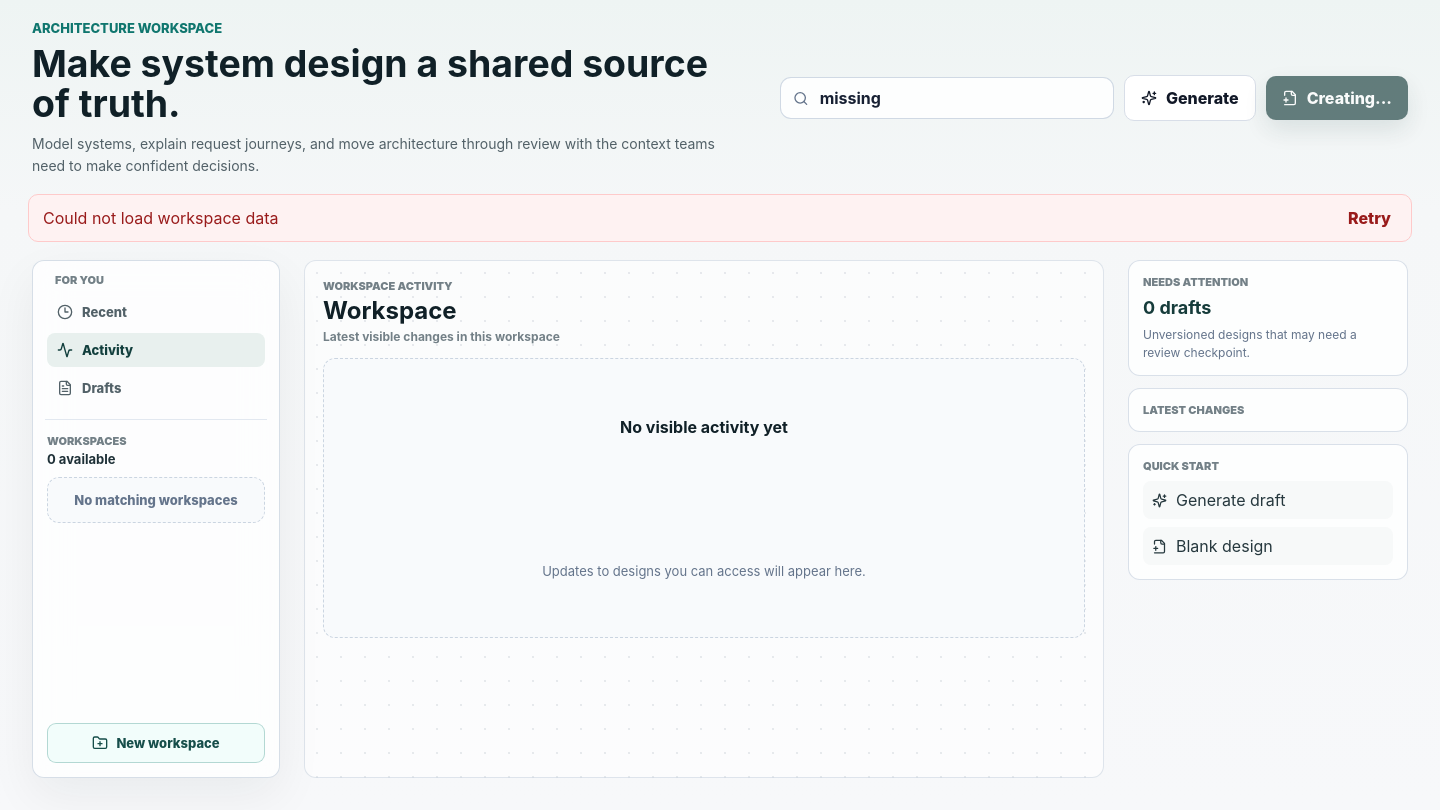
Scenario: HomeScreen › renders directory failures, empty searches, loading states, and retry behavior
Check: the text "No matching workspaces" is shown, box x1=47 y1=477 x2=265 y2=523
Click the button "Recent" at (156, 312), box x1=47 y1=295 x2=265 y2=329
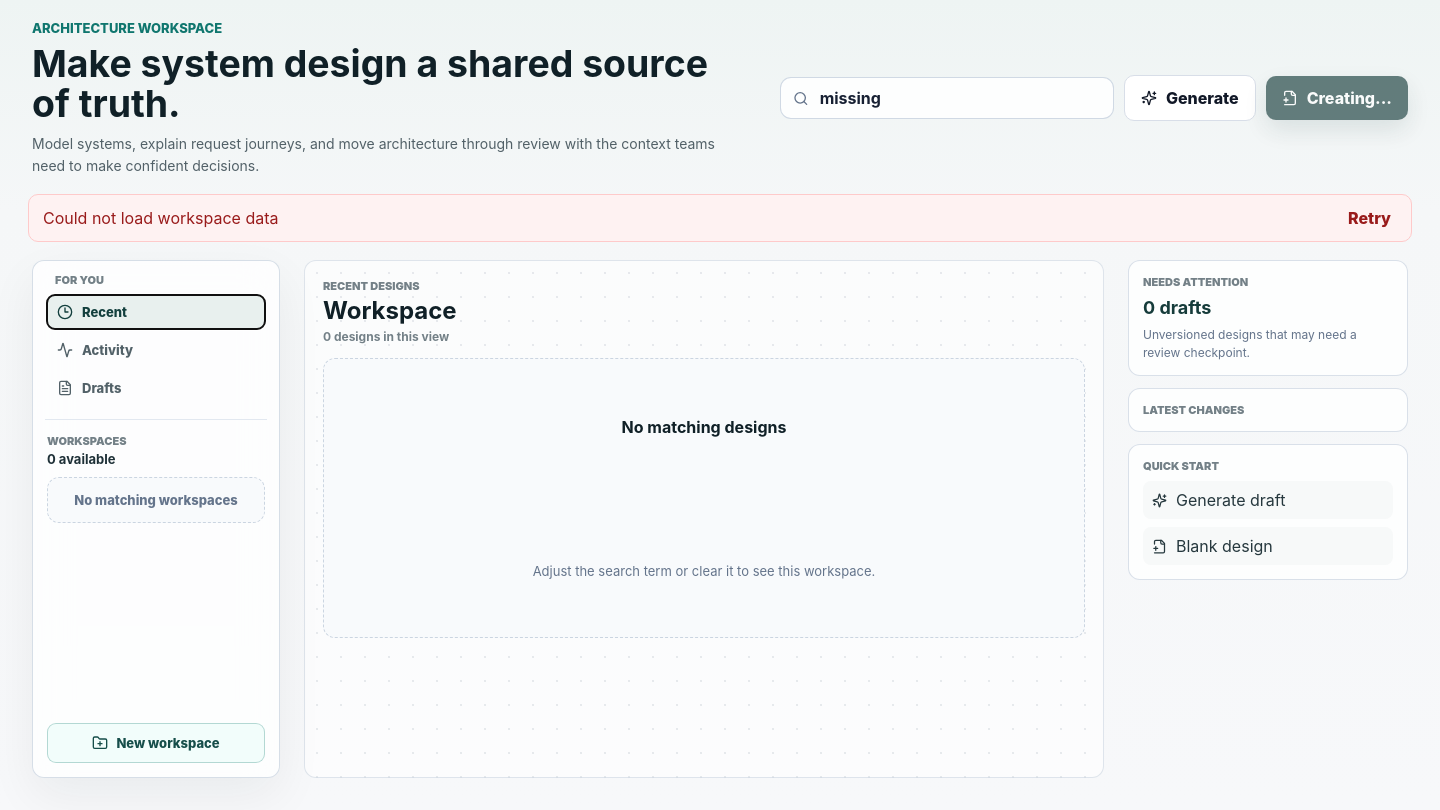
Check: the button "Creating..." is disabled, box x1=1266 y1=76 x2=1408 y2=120
Check: the text "No matching designs" is shown, box x1=622 y1=417 x2=786 y2=437
Click the button "Retry" at (1370, 218), box x1=1342 y1=207 x2=1397 y2=229
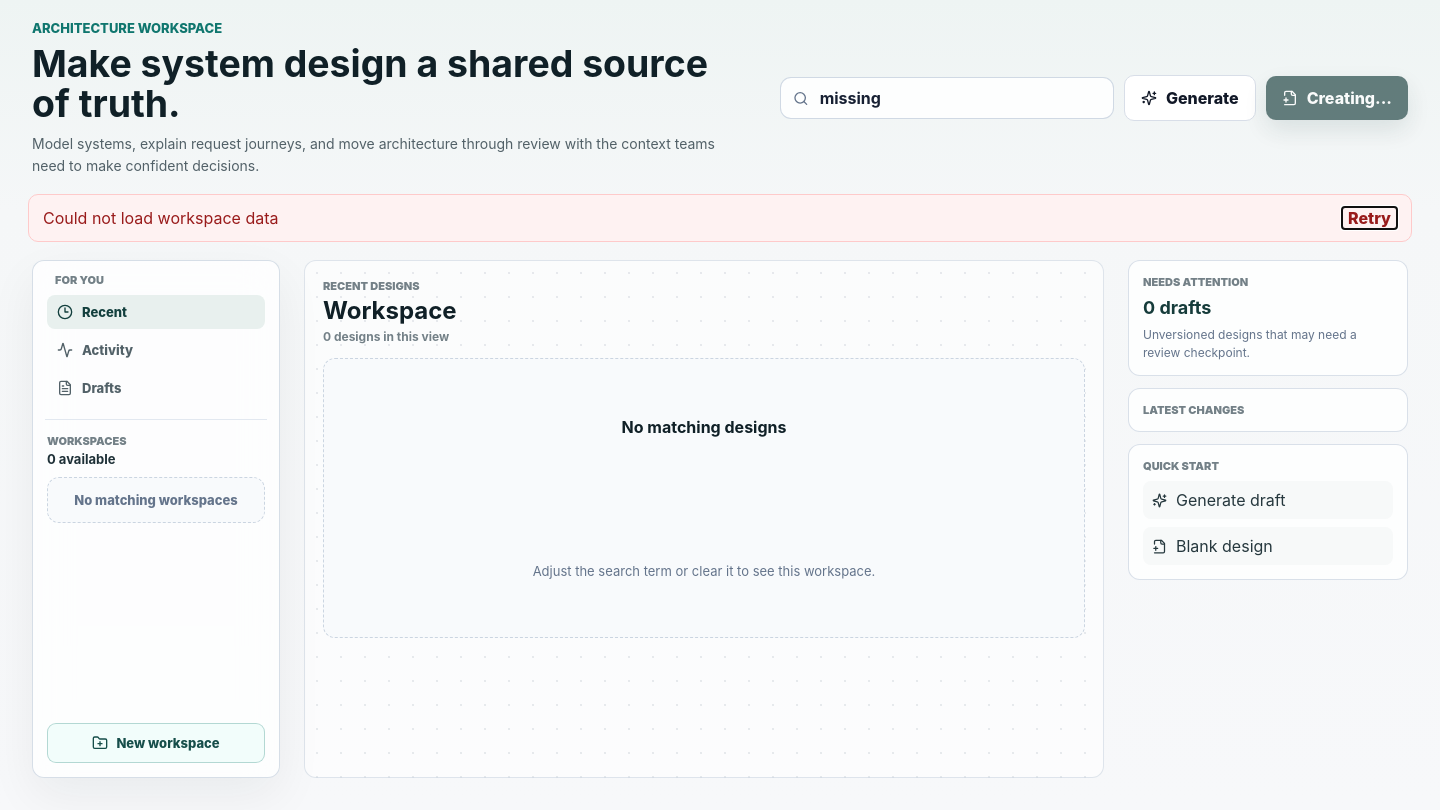
Click the button "New workspace" at (156, 743), box x1=47 y1=723 x2=265 y2=763
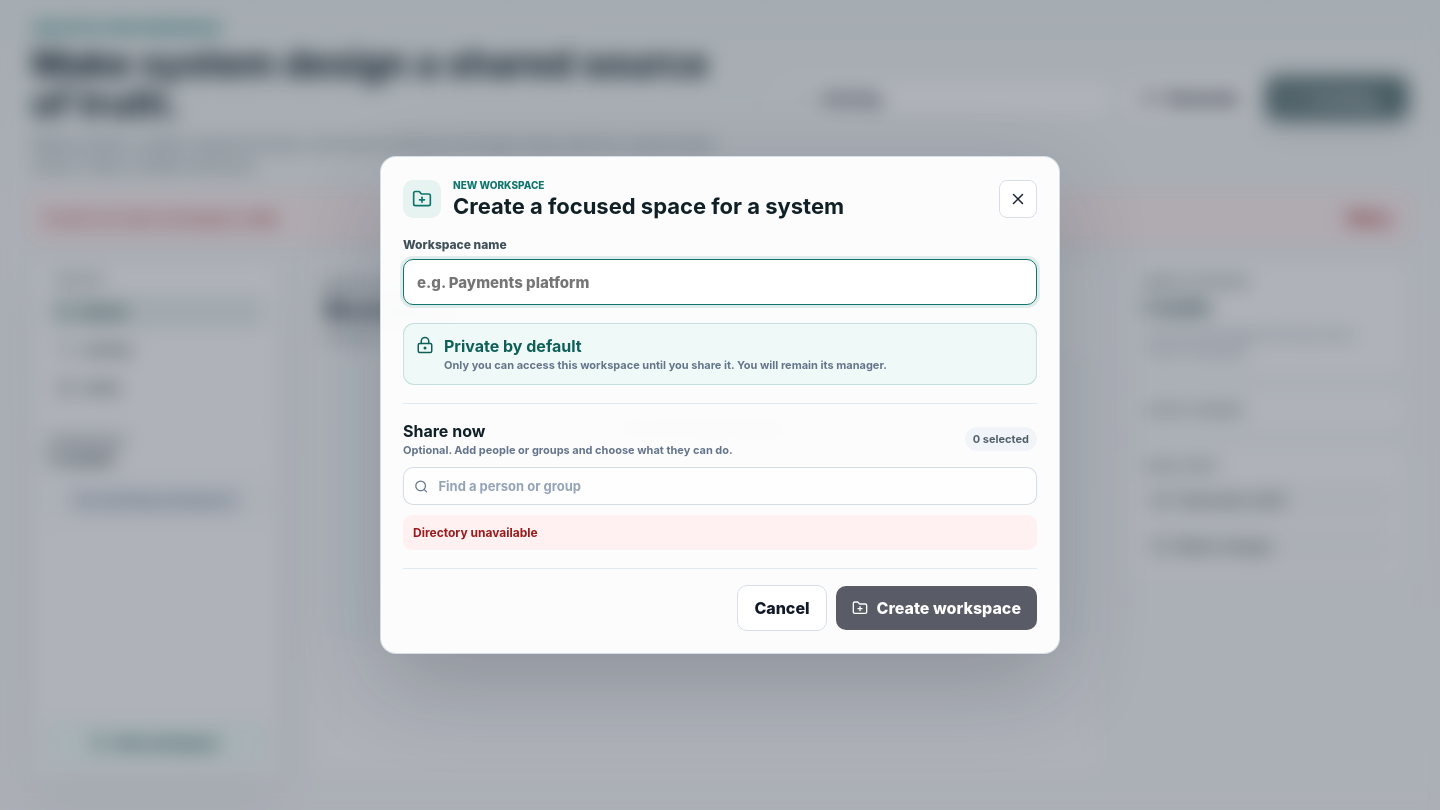
Check: the text "Directory unavailable" is shown, box x1=403 y1=515 x2=1037 y2=550
Type "nobody" into the field with placeholder "Find a person or group" at (731, 486), box x1=436 y1=477 x2=1026 y2=495
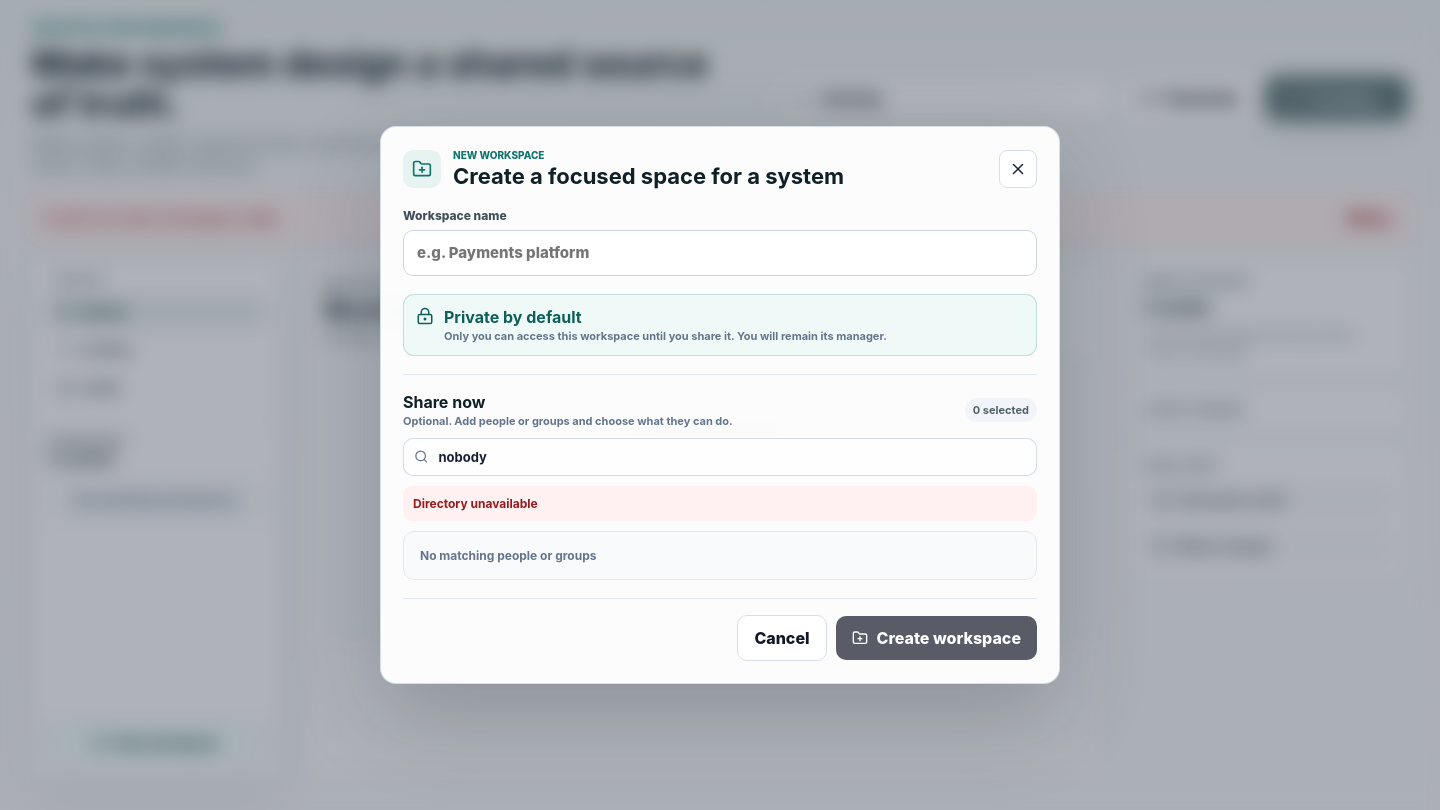
Check: the text "No matching people or groups" is shown, box x1=420 y1=548 x2=596 y2=563
